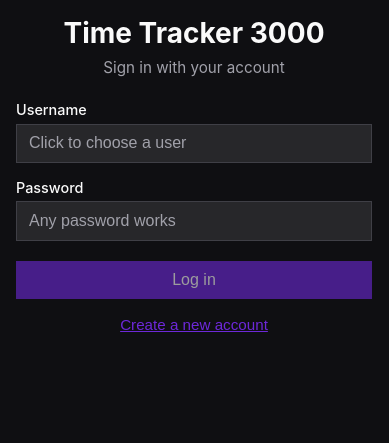
Test: LoginPage › Create a new account shows create form
Click the button "Create a new account" at (194, 325), box [120, 316, 268, 333]
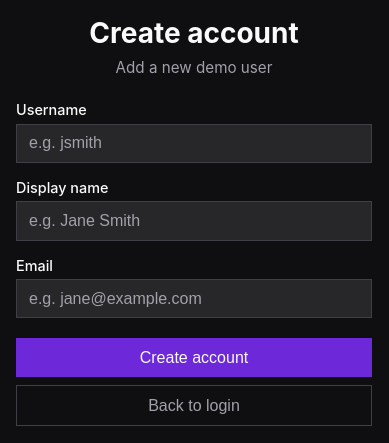
Expected: the heading "Create account" is shown, [89, 16, 299, 50]
Expected: the field with placeholder "e.g. jsmith" is shown, [16, 124, 372, 163]
Expected: the button "Back to login" is shown, [16, 385, 372, 426]
